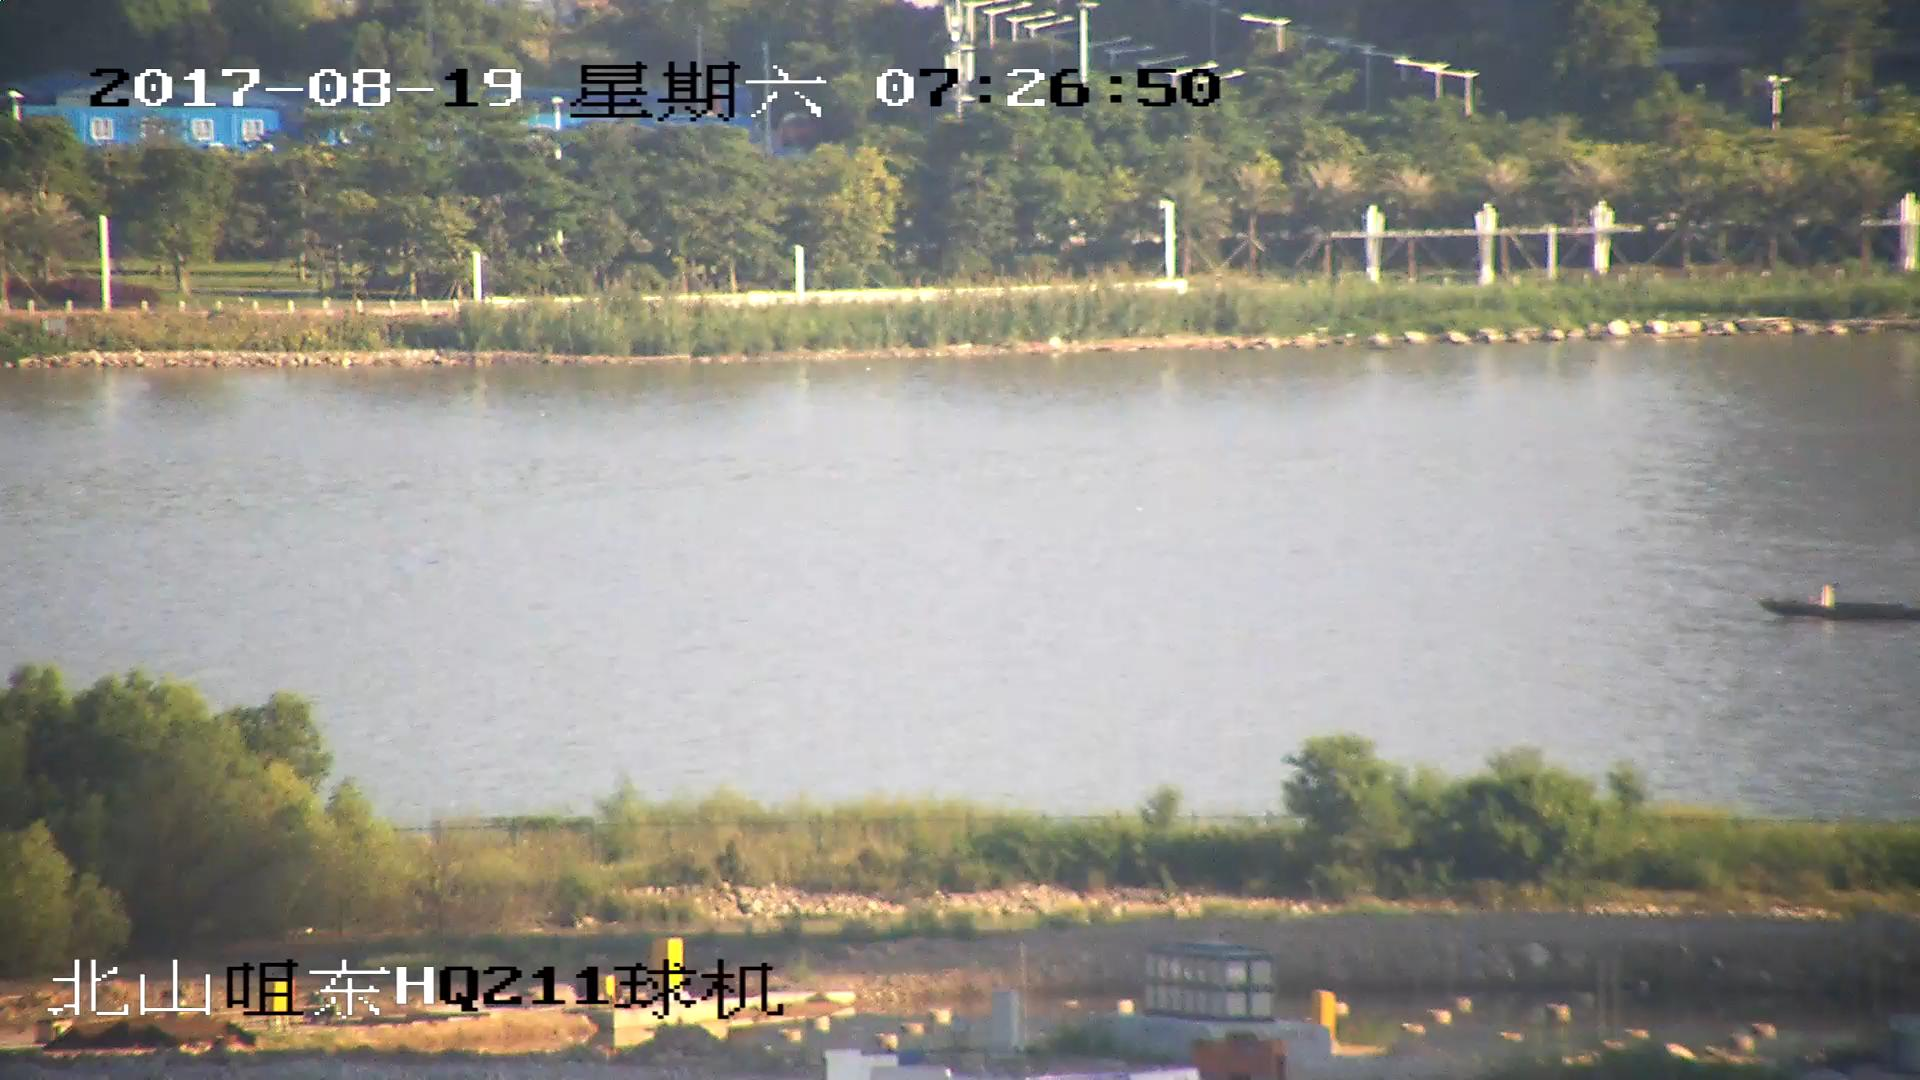fishing boat: (1761, 583, 1920, 625)
